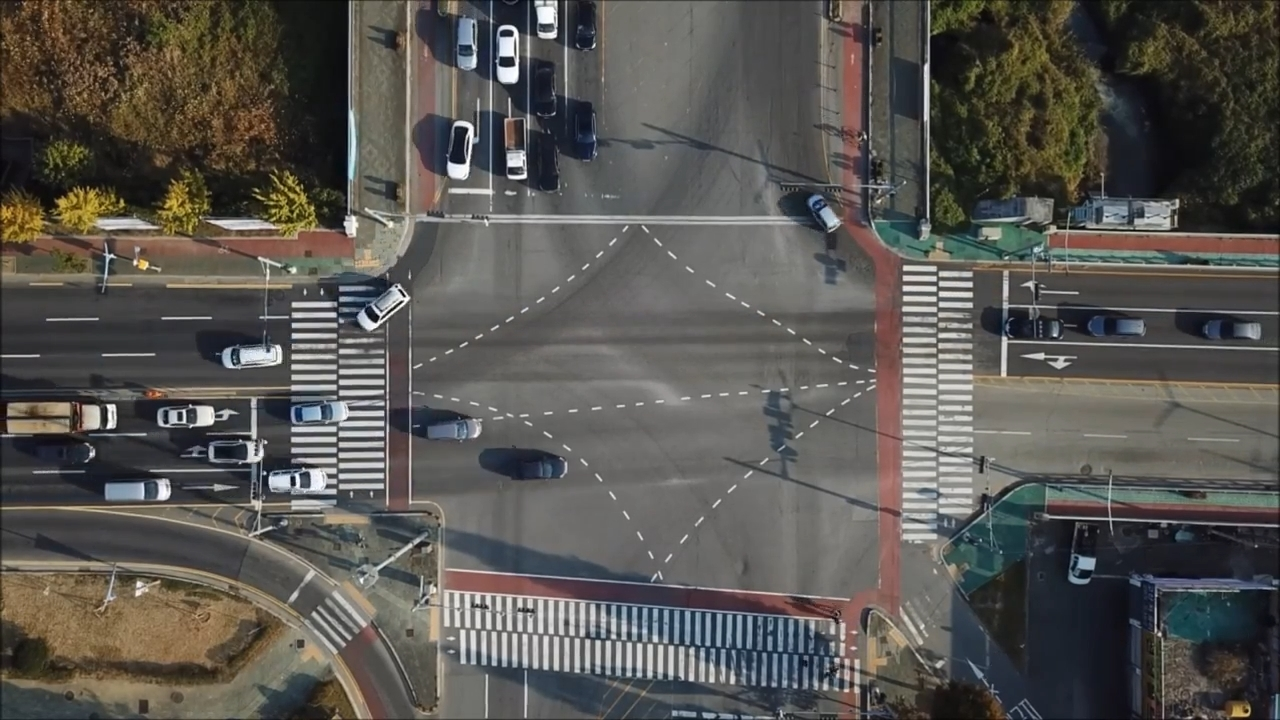car: (6, 399, 118, 435), (355, 281, 411, 330), (1067, 521, 1097, 586), (267, 466, 328, 496), (32, 439, 97, 467), (492, 21, 519, 85), (223, 344, 284, 372), (505, 453, 568, 480), (805, 194, 845, 236), (534, 124, 559, 189), (447, 123, 475, 181), (101, 479, 174, 501), (427, 416, 484, 443), (1002, 318, 1066, 342), (209, 439, 267, 465), (502, 113, 526, 175), (532, 55, 557, 114), (288, 400, 349, 424), (1091, 315, 1152, 339), (453, 20, 480, 70), (157, 406, 218, 428), (574, 102, 596, 162), (573, 1, 595, 50), (533, 1, 559, 36), (1249, 318, 1280, 343)
